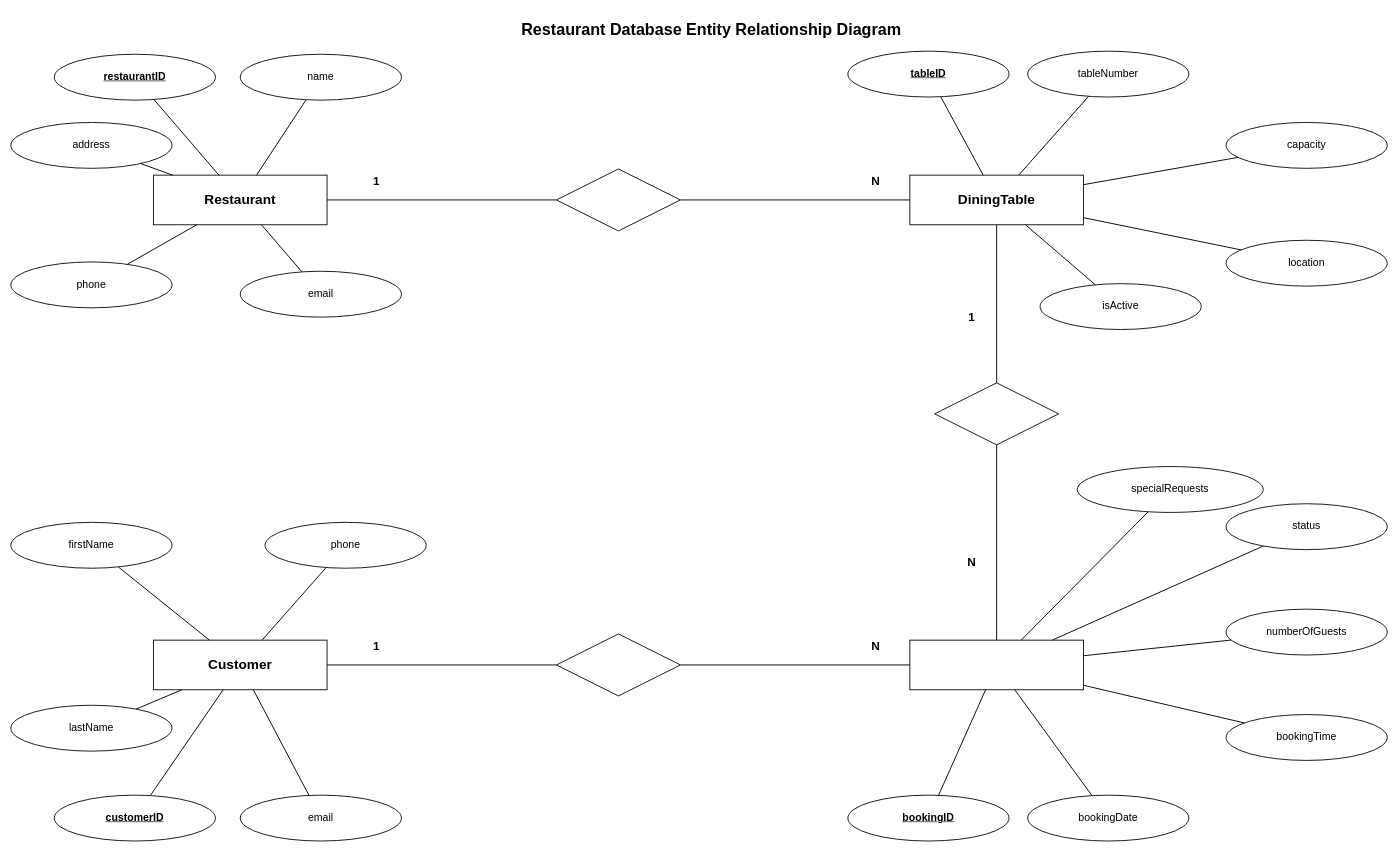
Image size: 1399x852. Some labels were removed from this diagram. The centre of each missing label's shape, as x and y in pixels:
Booking: point (996, 664)
contains: point (618, 199)
has_bookings: point (996, 413)
makes: point (618, 664)
